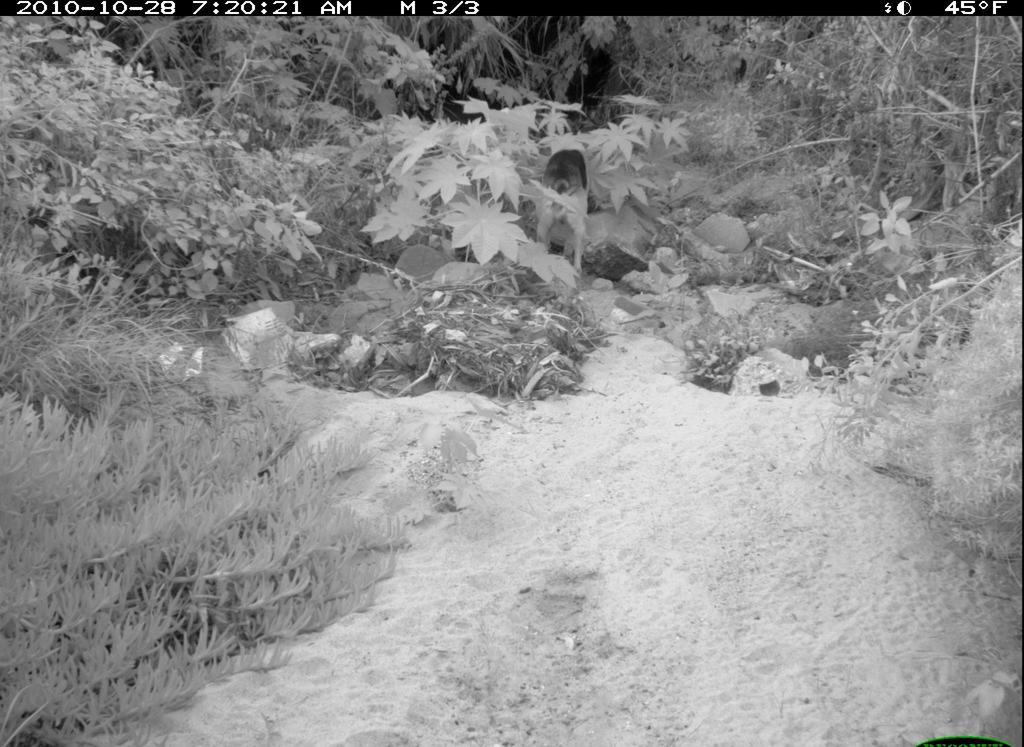dog: (527, 131, 606, 292)
